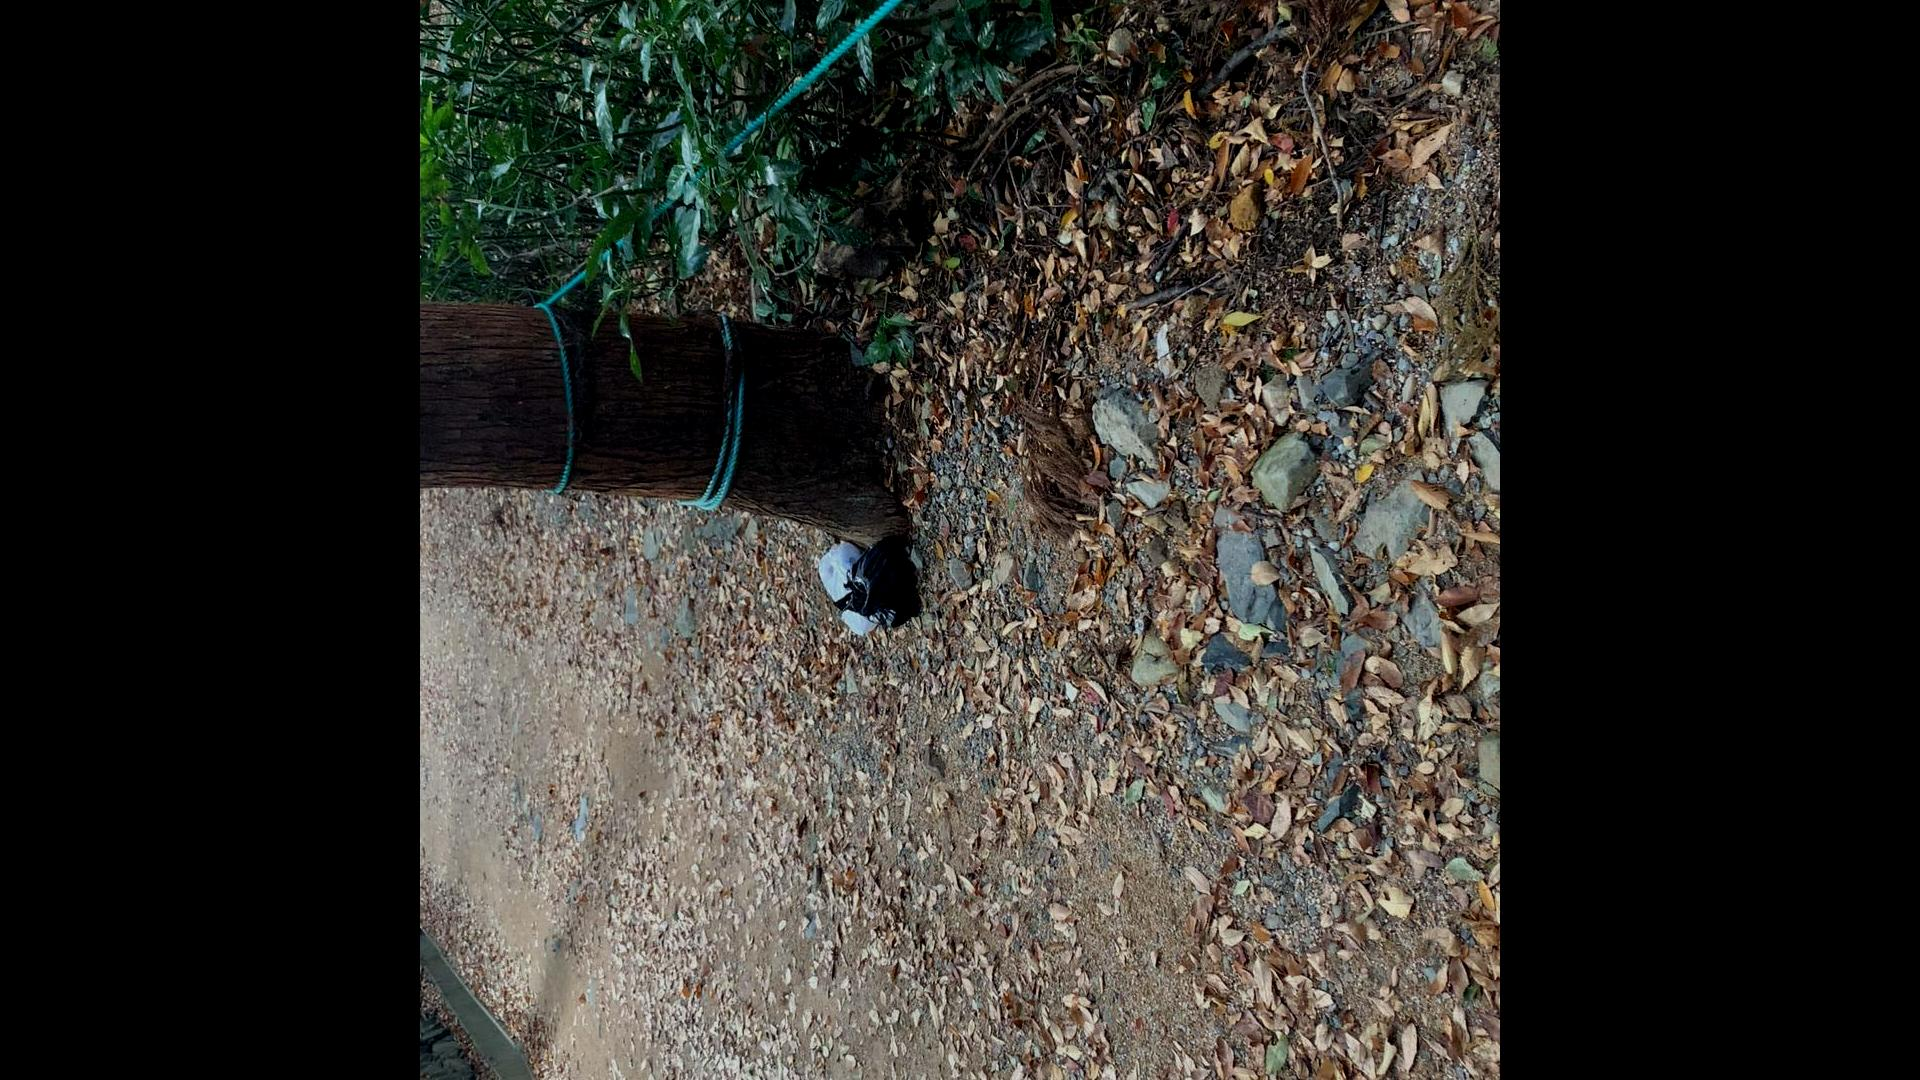black_bag: (831, 533, 923, 633)
white_bag: (816, 537, 882, 644)
